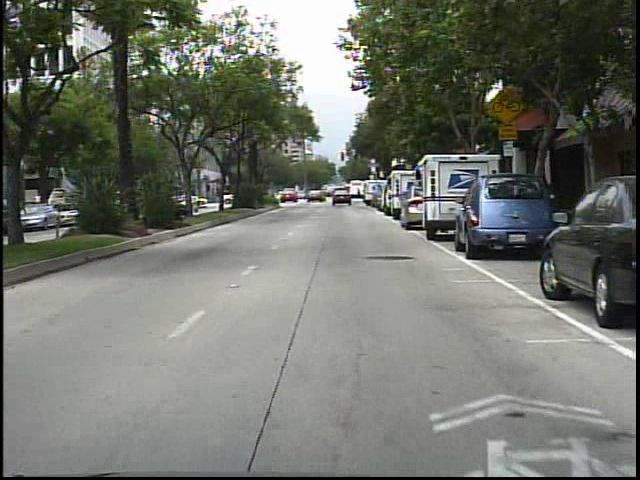person: (356, 183, 363, 204)
